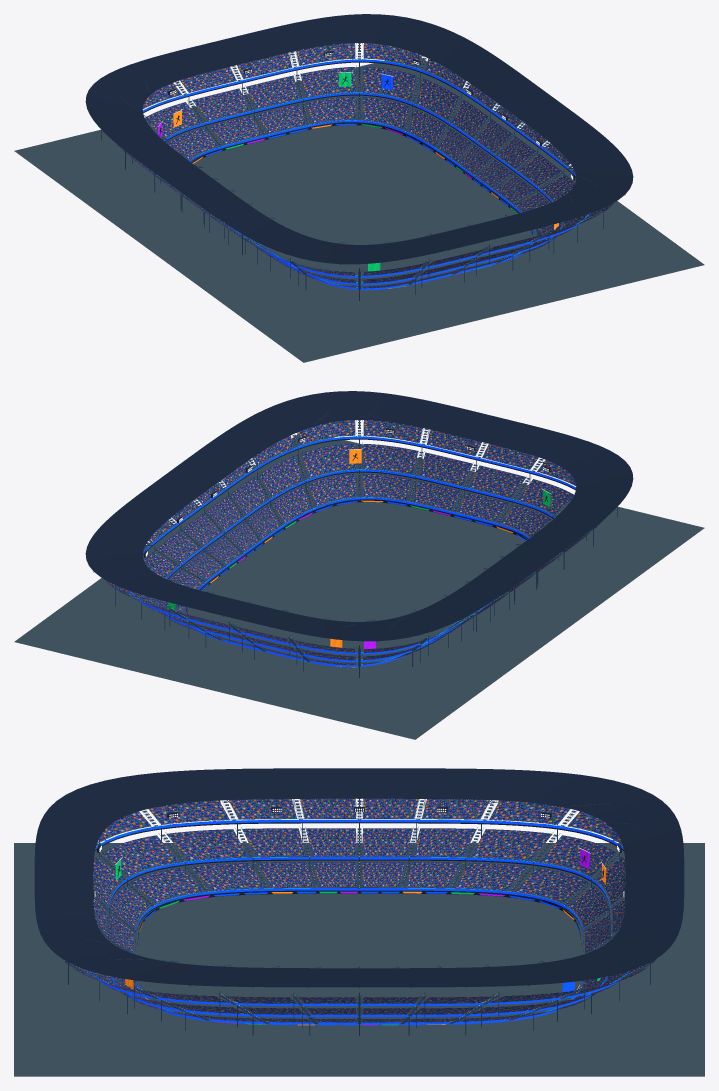
Rendered from stadium.glb.
3 renders of one model, top to bottom at view 1: azimuth 30°, elevation 25°; view 2: azimuth 150°, elevation 25°; view 3: azimuth 270°, elevation 25°, orthographic. The views are drawn at different scales.
Visible parts, largest first — view 1: PrepApron, PrepInk, PrepCrowd, PrepBlue, PrepSteel; view 2: PrepApron, PrepInk, PrepCrowd, PrepSteel, PrepBlue; view 3: PrepApron, PrepInk, PrepCrowd, PrepBlue, PrepSteel, PrepCyan.
Part boxes in pixels (left/top/right/bottom): PrepApron: left=14, top=57, right=704, bottom=362; PrepInk: left=85, top=14, right=633, bottom=264; PrepCrowd: left=113, top=43, right=614, bottom=288; PrepBlue: left=143, top=59, right=590, bottom=290; PrepSteel: left=101, top=43, right=625, bottom=300; PrepApron: left=14, top=434, right=704, bottom=739; PrepInk: left=85, top=391, right=633, bottom=641; PrepCrowd: left=104, top=420, right=605, bottom=665; PrepSteel: left=93, top=411, right=617, bottom=677; PrepBlue: left=128, top=436, right=575, bottom=666; PrepApron: left=14, top=843, right=704, bottom=1076; PrepInk: left=34, top=768, right=684, bottom=987; PrepCrowd: left=63, top=798, right=655, bottom=1022; PrepBlue: left=88, top=819, right=630, bottom=1025; PrepSteel: left=40, top=798, right=678, bottom=1035; PrepCyan: left=90, top=819, right=628, bottom=1022.
Size of the model in its own units: 160 by 26.19 by 200.
12 materials, 2 textured.
